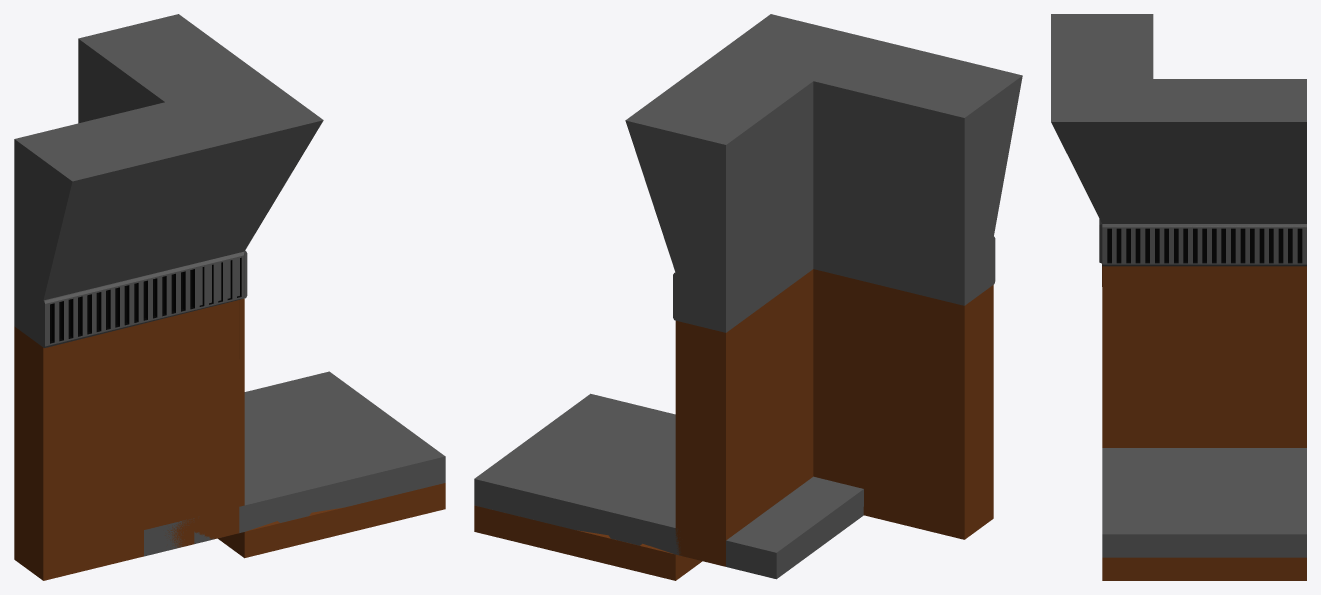
File: CosasTuneles.fbx
The picture shows the model from 3 angles, left to right: view 1: azimuth 30°, elevation 25°; view 2: azimuth 150°, elevation 25°; view 3: azimuth 270°, elevation 25°; orthographic projection. The views are drawn at different scales.
Visible parts, largest first — view 1: Esquina tunel, TechoTunel, ParedTunel, PisoTunel, Interseccion; view 2: Esquina tunel, ParedTunel, TechoTunel, Interseccion, PisoTunel; view 3: ParedTunel, Esquina tunel, TechoTunel, Interseccion, PisoTunel.
Part boxes in pixels (x1=…): Esquina tunel: x1=14, y1=14, x2=323, y2=580; TechoTunel: x1=144, y1=371, x2=445, y2=556; ParedTunel: x1=78, y1=14, x2=291, y2=506; PisoTunel: x1=218, y1=483, x2=445, y2=558; Interseccion: x1=194, y1=384, x2=395, y2=543; Esquina tunel: x1=625, y1=14, x2=1022, y2=566; ParedTunel: x1=627, y1=36, x2=838, y2=565; TechoTunel: x1=474, y1=393, x2=863, y2=579; Interseccion: x1=525, y1=439, x2=772, y2=555; PisoTunel: x1=474, y1=505, x2=702, y2=580; ParedTunel: x1=1102, y1=79, x2=1306, y2=447; Esquina tunel: x1=1051, y1=14, x2=1306, y2=446; TechoTunel: x1=1102, y1=448, x2=1306, y2=557; Interseccion: x1=1103, y1=448, x2=1306, y2=512; PisoTunel: x1=1102, y1=557, x2=1306, y2=580.
Bounding box in the file's own units: 800 × 850 × 500.
Materials: 2 (2 with a texture image).
